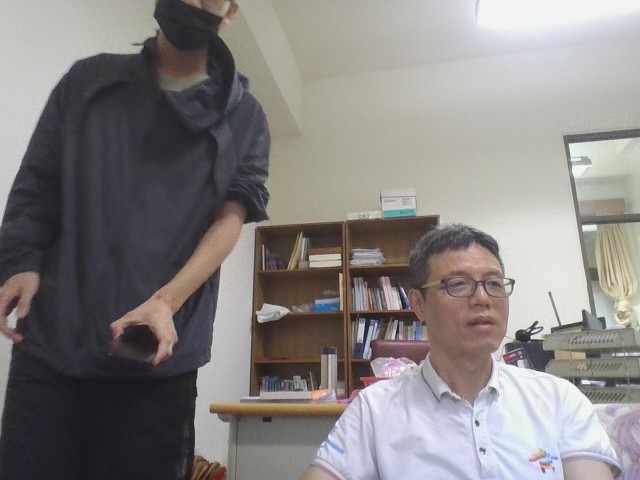No_Gloves: (102, 288, 186, 368), (0, 261, 46, 341)
No_Helmet: (402, 219, 518, 383), (142, 0, 247, 68)
person: (0, 0, 283, 478), (262, 204, 638, 480)
